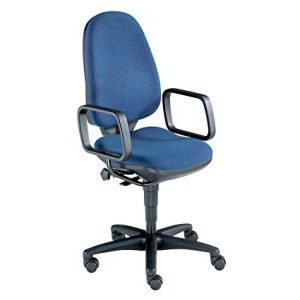chair: (76, 11, 227, 291)
